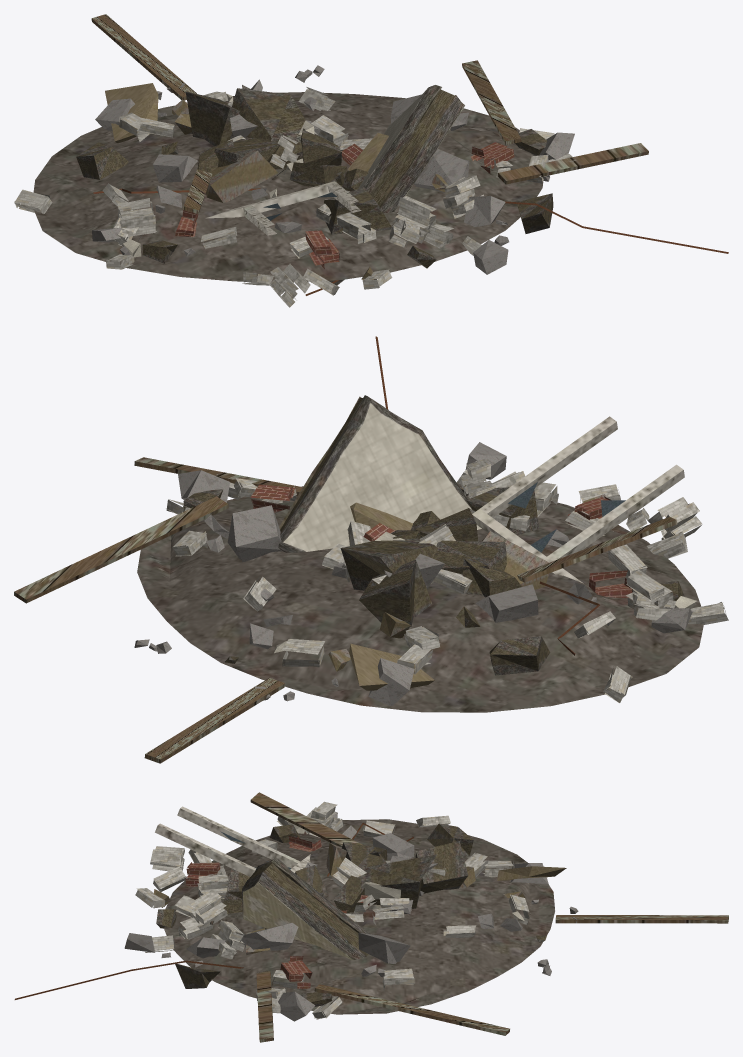
Rendered from rubble_4.glb.
The picture shows the model from 3 angles, top to bottom: view 1: azimuth 30°, elevation 25°; view 2: azimuth 150°, elevation 25°; view 3: azimuth 270°, elevation 25°; orthographic projection. The views are drawn at different scales.
Parts seen in each view (by area): view 1: rubble_4; view 2: rubble_4; view 3: rubble_4.
Boxes of the visible parts, x1,y1,x2,y2 form: rubble_4: (14,14,728,307); rubble_4: (14,336,728,763); rubble_4: (14,792,728,1042).
Size of the model in its own units: 4.53 by 1.58 by 6.1.
Materials: 1 (1 with a texture image).
